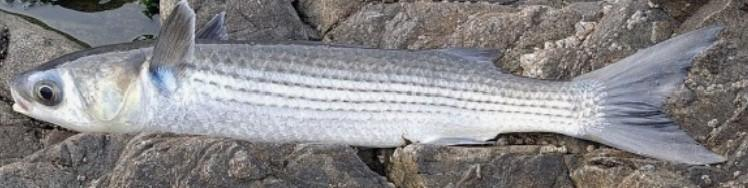fish: (7, 0, 727, 165)
